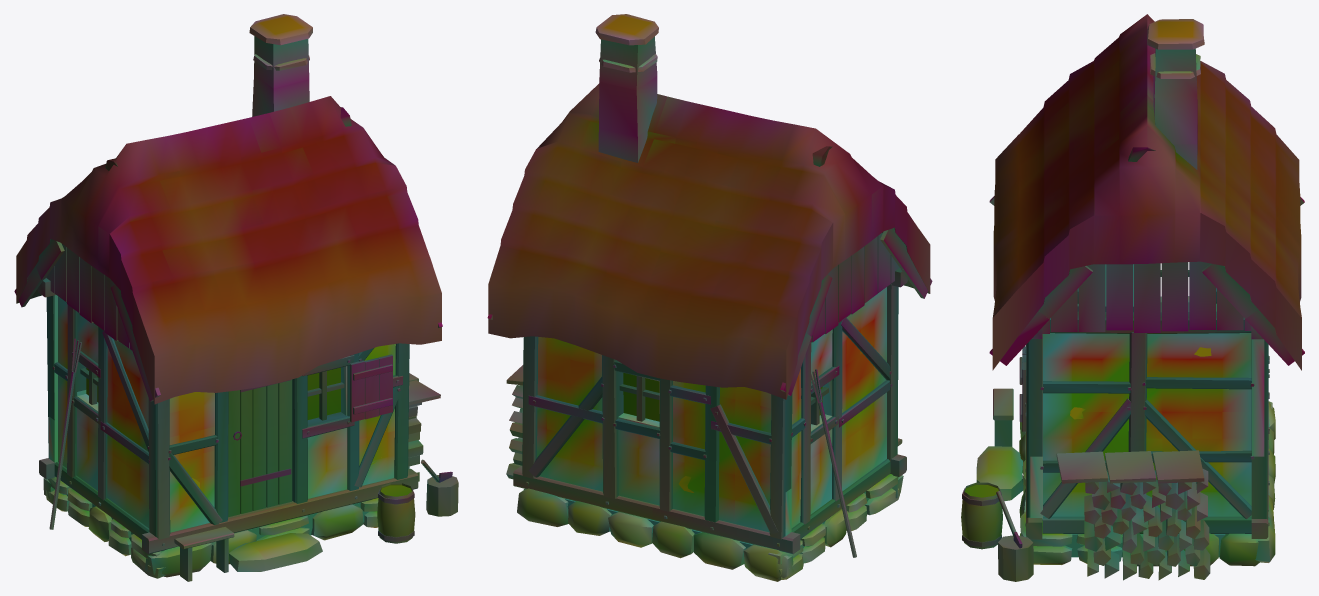
File: hovel.glb
3 renders of one model, left to right at view 1: azimuth 30°, elevation 25°; view 2: azimuth 150°, elevation 25°; view 3: azimuth 270°, elevation 25°, orthographic. The views are drawn at different scales.
Parts seen in each view (by area): view 1: hovel_LOD0; view 2: hovel_LOD0; view 3: hovel_LOD0.
Part boxes in pixels (box(x1,y1,x2,y2)): hovel_LOD0: box(14, 14, 458, 581); hovel_LOD0: box(487, 14, 932, 581); hovel_LOD0: box(961, 14, 1304, 581).
Size of what is drawn, in the model's own units: 2.38 by 3.14 by 1.93.
